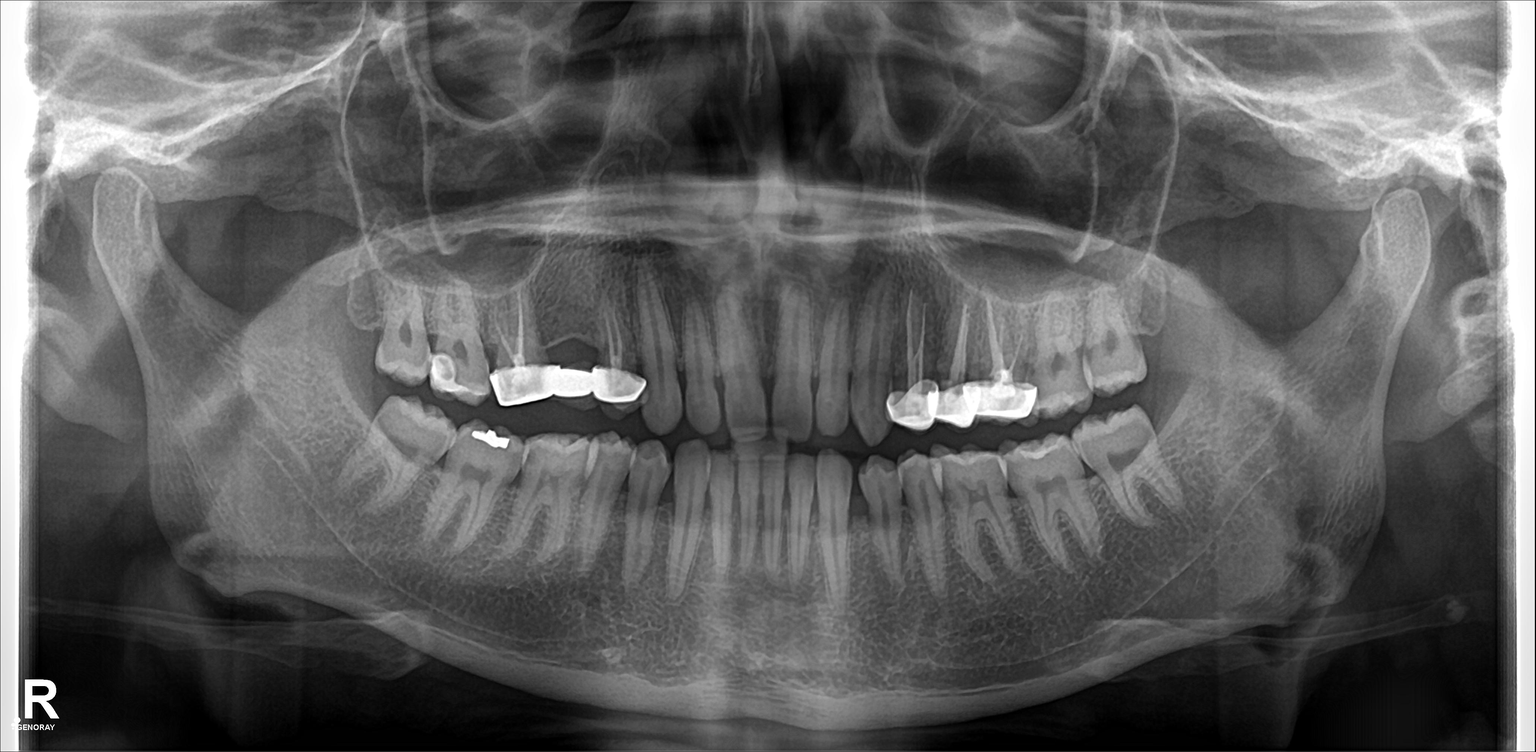Endodontically Treated Tooth: (488, 290, 541, 402), (942, 285, 982, 429), (901, 289, 942, 429), (538, 292, 594, 392), (592, 289, 636, 399), (989, 292, 1025, 422)
